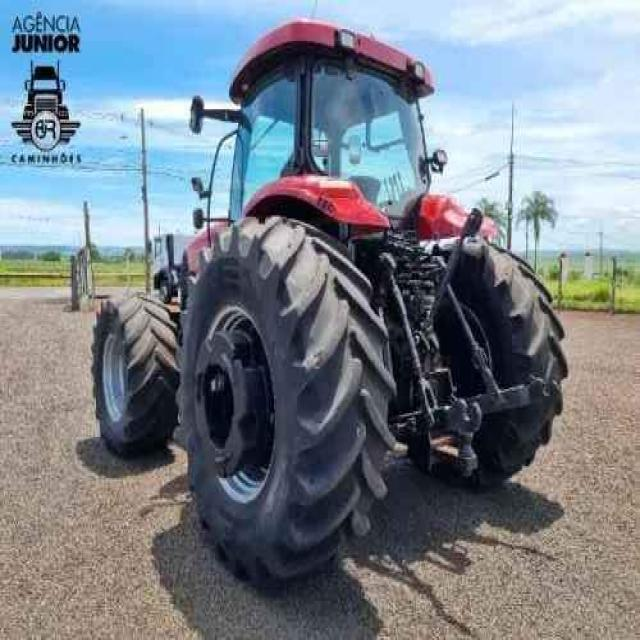Tratores - v5 YOLO V8L 2024-11-13: (94, 16, 564, 588)
